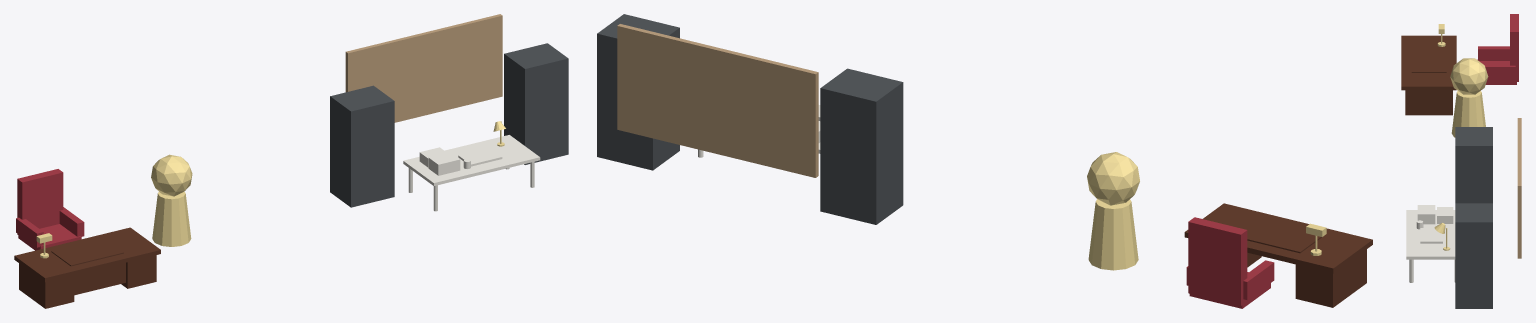
The model's file is finch-office-furniture.glb.
3 renders of one model, left to right at view 1: azimuth 30°, elevation 25°; view 2: azimuth 150°, elevation 25°; view 3: azimuth 270°, elevation 25°, orthographic. The views are drawn at different scales.
Visible parts, largest first — view 1: Installed Arthur_FilingCabinets, Installed Arthur_Corkboard, Installed Raymond_ExecutiveDesk, Installed Arthur_InvestigationDesk, Installed Raymond_ExecutiveThrone, Installed Raymond_DeskProps; view 2: Installed Arthur_Corkboard, Installed Arthur_FilingCabinets, Installed Raymond_ExecutiveDesk, Installed Raymond_ExecutiveThrone, Installed Raymond_DeskProps; view 3: Installed Arthur_FilingCabinets, Installed Raymond_ExecutiveDesk, Installed Arthur_InvestigationDesk, Installed Raymond_DeskProps, Installed Raymond_ExecutiveThrone, Installed Arthur_Corkboard, Installed Arthur_TaskLamp.
Boxes of the visible parts, box(x1,y1,x2,y2) form: Installed Arthur_FilingCabinets: box(330, 43, 568, 207); Installed Arthur_Corkboard: box(345, 14, 502, 122); Installed Raymond_ExecutiveDesk: box(14, 227, 160, 308); Installed Arthur_InvestigationDesk: box(403, 135, 540, 211); Installed Raymond_ExecutiveThrone: box(16, 169, 84, 250); Installed Raymond_DeskProps: box(36, 154, 192, 258); Installed Arthur_Corkboard: box(617, 24, 818, 177); Installed Arthur_FilingCabinets: box(597, 14, 903, 224); Installed Raymond_ExecutiveDesk: box(1184, 203, 1372, 307); Installed Raymond_ExecutiveThrone: box(1186, 217, 1274, 308); Installed Raymond_DeskProps: box(1087, 152, 1326, 270); Installed Arthur_FilingCabinets: box(1455, 127, 1492, 308); Installed Raymond_ExecutiveDesk: box(1401, 35, 1456, 115); Installed Arthur_InvestigationDesk: box(1406, 205, 1455, 282); Installed Raymond_DeskProps: box(1437, 24, 1488, 137); Installed Raymond_ExecutiveThrone: box(1477, 14, 1518, 84); Installed Arthur_Corkboard: box(1517, 118, 1521, 258); Installed Arthur_TaskLamp: box(1434, 223, 1450, 250).
Bounding box in the file's own units: 11.45 × 2.4 × 2.39.
